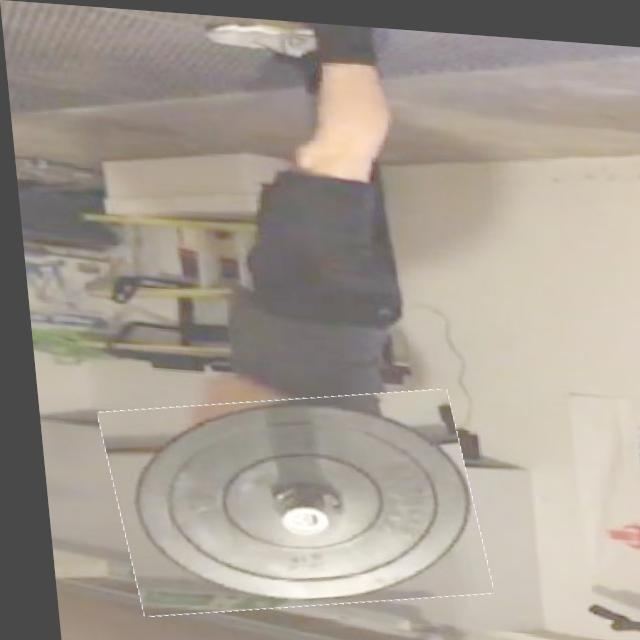barbell: (93, 375, 480, 624)
